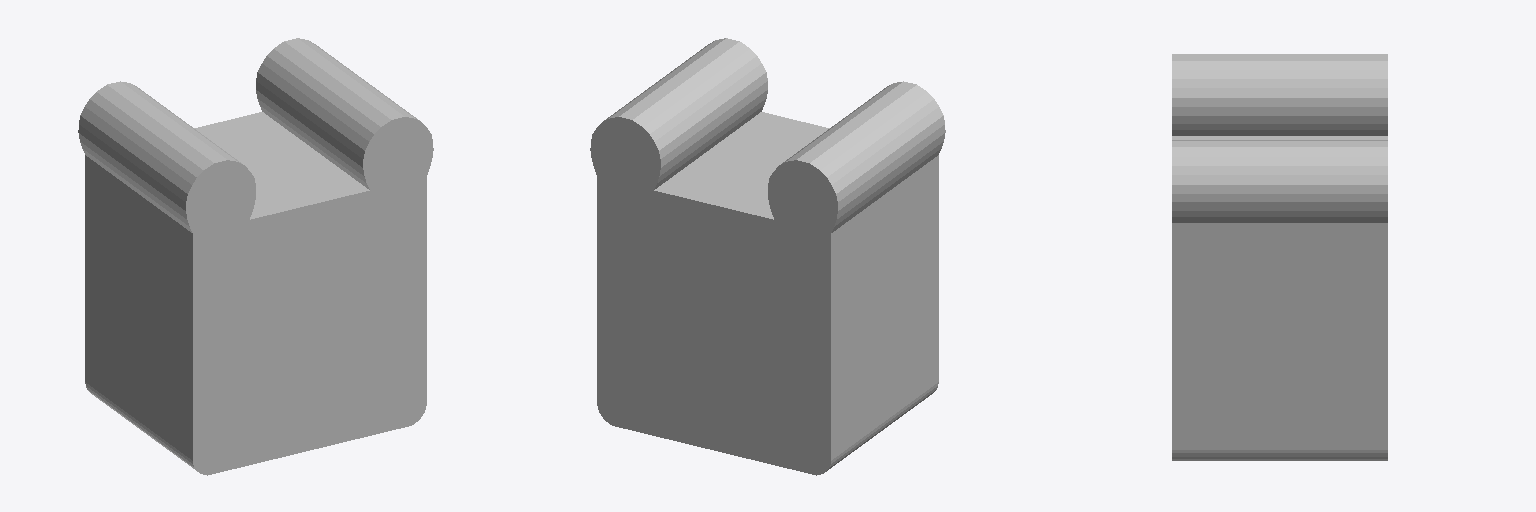
Rendered from Bear.obj.
3 renders of one model, left to right at view 1: azimuth 30°, elevation 25°; view 2: azimuth 150°, elevation 25°; view 3: azimuth 270°, elevation 25°, orthographic.
Visible parts, largest first — view 1: bear; view 2: bear; view 3: bear.
Boxes of the visible parts, box(x1,y1,x2,y2) form: bear: box(78, 38, 433, 475); bear: box(590, 38, 945, 475); bear: box(1172, 54, 1387, 460).
Bounding box in the file's own units: 5.67 × 6.8 × 4.27.